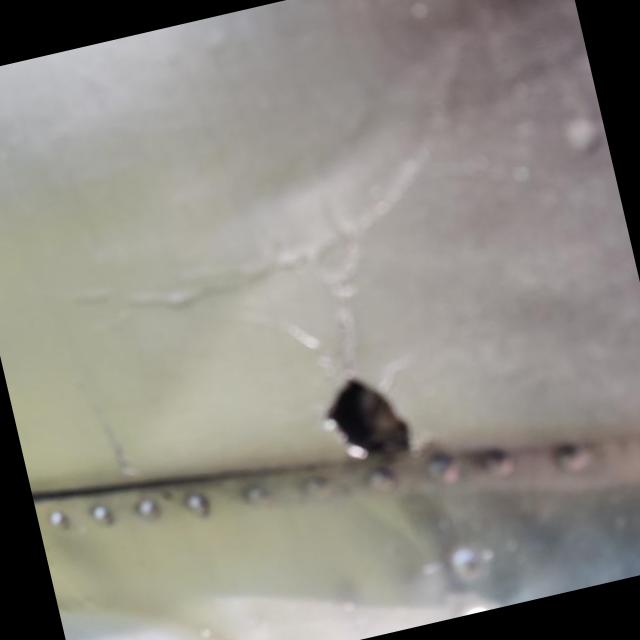Crack: (242, 147, 430, 472)
